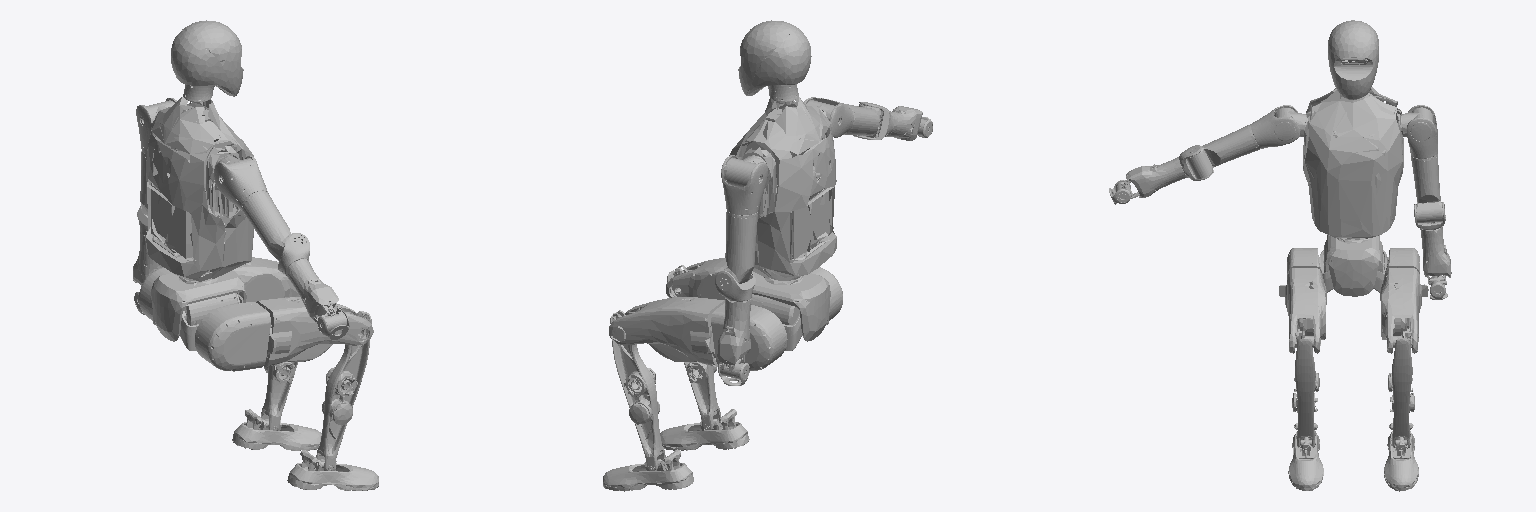
--- What the picture shows (computed from the rendered views, not written in the file) ---
Views: 3 orthographic renders of the robot side by side, from view 1: azimuth 30°, elevation 25°; view 2: azimuth 150°, elevation 25°; view 3: azimuth 270°, elevation 25°.
Model Robot with 49 links and 48 joints (19 revolute, 29 fixed), rooted at pelvis, posed all joints at 0 but 2 set to mid-range because 0 is outside their limits (shoulder_roll_r_joint = -1.05, thumb_joint_0 = 0.75).
Visible links, largest first — view 1: waist_yaw_link, hip_pitch_r_link, head_roll_link, hip_yaw_r_link, pelvis, knee_pitch_r_link, ankle_roll_r_link, ankle_roll_l_link, shoulder_yaw_r_link, hip_yaw_l_link, elbow_yaw_r_link, shoulder_roll_r_link (+5 smaller); view 2: waist_yaw_link, hip_yaw_l_link, head_roll_link, pelvis, knee_pitch_l_link, hip_pitch_l_link, ankle_roll_l_link, ankle_roll_r_link, shoulder_yaw_l_link, elbow_yaw_l_link, knee_pitch_r_link, hip_yaw_r_link (+7 smaller); view 3: waist_yaw_link, head_roll_link, pelvis, hip_yaw_l_link, hip_yaw_r_link, knee_pitch_r_link, knee_pitch_l_link, shoulder_yaw_r_link, shoulder_yaw_l_link, ankle_roll_l_link, ankle_roll_r_link, elbow_yaw_r_link (+5 smaller).
Boxes of the visible links, x1=… form: waist_yaw_link: x1=146, y1=97, x2=253, y2=281; hip_pitch_r_link: x1=195, y1=302, x2=270, y2=371; head_roll_link: x1=171, y1=20, x2=243, y2=96; hip_yaw_r_link: x1=256, y1=297, x2=373, y2=366; pelvis: x1=151, y1=270, x2=246, y2=341; knee_pitch_r_link: x1=316, y1=311, x2=371, y2=470; ankle_roll_r_link: x1=287, y1=450, x2=378, y2=490; ankle_roll_l_link: x1=232, y1=409, x2=321, y2=450; shoulder_yaw_r_link: x1=241, y1=191, x2=290, y2=261; hip_yaw_l_link: x1=233, y1=257, x2=299, y2=301; elbow_yaw_r_link: x1=286, y1=259, x2=338, y2=321; shoulder_roll_r_link: x1=214, y1=155, x2=268, y2=210; waist_yaw_link: x1=729, y1=97, x2=836, y2=280; hip_yaw_l_link: x1=609, y1=297, x2=724, y2=366; head_roll_link: x1=738, y1=20, x2=811, y2=95; pelvis: x1=751, y1=271, x2=830, y2=341; knee_pitch_l_link: x1=610, y1=310, x2=665, y2=470; hip_pitch_l_link: x1=711, y1=303, x2=787, y2=370; ankle_roll_l_link: x1=603, y1=449, x2=693, y2=491; ankle_roll_r_link: x1=660, y1=409, x2=749, y2=450; shoulder_yaw_l_link: x1=722, y1=211, x2=757, y2=283; elbow_yaw_l_link: x1=717, y1=298, x2=750, y2=370; knee_pitch_r_link: x1=667, y1=265, x2=720, y2=429; hip_yaw_r_link: x1=666, y1=258, x2=727, y2=299; waist_yaw_link: x1=1303, y1=87, x2=1403, y2=239; head_roll_link: x1=1328, y1=20, x2=1378, y2=99; pelvis: x1=1324, y1=235, x2=1382, y2=296; hip_yaw_l_link: x1=1380, y1=268, x2=1428, y2=353; hip_yaw_r_link: x1=1279, y1=268, x2=1326, y2=353; knee_pitch_r_link: x1=1292, y1=331, x2=1319, y2=447; knee_pitch_l_link: x1=1388, y1=331, x2=1414, y2=447; shoulder_yaw_r_link: x1=1187, y1=124, x2=1260, y2=178; shoulder_yaw_l_link: x1=1411, y1=154, x2=1442, y2=222; ankle_roll_l_link: x1=1384, y1=423, x2=1418, y2=491; ankle_roll_r_link: x1=1288, y1=423, x2=1323, y2=490; elbow_yaw_r_link: x1=1121, y1=157, x2=1187, y2=198.
Size in the robot's own frame: 0.5977 by 1.08 by 1.41 metres.
Meshes: 44 distinct files referenced, 31 mesh visuals loaded (31 binary STL); not drawn: 13 (reference not matched to a file when rendering).

robot.urdf — Robot:
<?xml version="1.0" encoding="utf-8"?>
<!-- This URDF was automatically created by SolidWorks to URDF Exporter! Originally created by Stephen Brawner ([email redacted]) 
     Commit Version: 1.6.0-4-g7f85cfe  Build Version: 1.6.7995.38578
     For more information, please see http://wiki.ros.org/sw_urdf_exporter -->
<robot
  name="Robot">
  <link
    name="pelvis">
    <inertial>
      <origin
        xyz="-0.000641 0.000723  -0.074769"
        rpy="0 0 0" />
      <mass
        value="6.094610" />
      <inertia
        ixx="0.020607"
        ixy="0.004335"
        ixz="0.000046"
        iyy="0.027481"
        iyz="-0.000037"
        izz="0.028105" />
    </inertial>
    <visual>
      <origin
        xyz="0 0 0"
        rpy="0 0 0" />
      <geometry>
        <mesh
          filename="meshes/pelvis.STL" />
      </geometry>
      <material
        name="">
        <color
          rgba="0.752941176470588 0.752941176470588 0.752941176470588 1" />
      </material>
    </visual>
    <collision>
      <origin
        xyz="0 0 0"
        rpy="0 0 0" />
      <geometry>
        <mesh
          filename="meshes/pelvis.STL" />
      </geometry>
    </collision>
  </link>

  <link
    name="hip_roll_l_link">
    <inertial>
      <origin
        xyz="-0.001848 0.055849 -0.036017"
        rpy="0 0 0" />
      <mass
        value="0.672983" />
      <inertia
        ixx="0.001020"
        ixy="0.000070"
        ixz="-0.000038"
        iyy="0.003221"
        iyz="-0.000281"
        izz="0.003272" />
    </inertial>
    <visual>
      <origin
        xyz="0 0 0"
        rpy="0 0 0" />
      <geometry>
        <mesh
          filename="meshes/hip_roll_l_link.STL" />
      </geometry>
      <material
        name="">
        <color
          rgba="0.752941176470588 0.752941176470588 0.752941176470588 1" />
      </material>
    </visual>
    <collision>
      <origin
        xyz="0 0 0"
        rpy="0 0 0" />
      <geometry>
        <mesh
          filename="meshes/hip_roll_l_link.STL" />
      </geometry>
    </collision>
  </link>

  <joint
    name="hip_roll_l_joint"
    type="fixed">
    <origin
      xyz="0 0.028 -0.0857"
      rpy="0 0 0" />
    <parent
      link="pelvis" />
    <child
      link="hip_roll_l_link" />
    <axis
      xyz="1 0 0" />
    <limit effort="160" lower="-0.79" upper="0.79" velocity="15.6"/>
  </joint>

  <link
    name="hip_pitch_l_link">
    <inertial>
      <origin
        xyz="0.001125 0.001644 -0.011770"
        rpy="0 0 0" />
      <mass
        value="4.227933" />
      <inertia
        ixx="0.016785"
        ixy="0.000022"
        ixz="-0.000255"
        iyy="0.025135"
        iyz="0.000012"
        izz="0.015273" />
    </inertial>
    <visual>
      <origin
        xyz="0 0 0"
        rpy="0 0 0" />
      <geometry>
        <mesh
          filename="meshes/hip_pitch_l_link.STL" />
      </geometry>
      <material
        name="">
        <color
          rgba="0.752941176470588 0.752941176470588 0.752941176470588 1" />
      </material>
    </visual>
    <collision>
      <origin
        xyz="0 0 0"
        rpy="0 0 0" />
      <geometry>
        <mesh
          filename="meshes/hip_pitch_l_link.STL" />
      </geometry>
    </collision>
  </link>

  <joint
    name="hip_pitch_l_joint"
    type="fixed">
    <origin
      xyz="0 0.122 -0.046"
      rpy="0 -1.43 0" />
    <parent
      link="hip_roll_l_link" />
    <child
      link="hip_pitch_l_link" />
    <axis
      xyz="0 1 0" />
    <limit effort="300" lower="-2.79" upper="2.09" velocity="12.5"/>
  </joint>

  <link
    name="hip_yaw_l_link">
    <inertial>
      <origin
        xyz="0.004124 -0.006494 -0.119737"
        rpy="0 0 0" />
      <mass
        value="6.572700" />
      <inertia
        ixx="0.056043"
        ixy="0.000146"
        ixz="-0.000059"
        iyy="0.063286"
        iyz="0.001030"
        izz="0.021108" />
    </inertial>
    <visual>
      <origin
        xyz="0 0 0"
        rpy="0 0 0" />
      <geometry>
        <mesh
          filename="meshes/hip_yaw_l_link.STL" />
      </geometry>
      <material
        name="">
        <color
          rgba="0.752941176470588 0.752941176470588 0.752941176470588 1" />
      </material>
    </visual>
    <collision>
      <origin
        xyz="0 0 0"
        rpy="0 0 0" />
      <geometry>
        <mesh
          filename="meshes/hip_yaw_l_link.STL" />
      </geometry>
    </collision>
  </link>

  <joint
    name="hip_yaw_l_joint"
    type="fixed">
    <origin
      xyz="0 0 -0.0987"
      rpy="0 0 0" />
    <parent
      link="hip_pitch_l_link" />
    <child
      link="hip_yaw_l_link" />
    <axis
      xyz="0 0 1" />
    <limit effort="160" lower="-1.04" upper="1.04" velocity="15.6"/>  
  </joint>

  <link
    name="knee_pitch_l_link">
    <inertial>
      <origin
        xyz="0.007489 0.001584  -0.167773"
        rpy="0 0 0" />
      <mass
        value="3.017992" />
      <inertia
        ixx="0.035604"
        ixy="0.000037"
        ixz="0.001830"
        iyy="0.036226"
        iyz="0.000475"
        izz="0.001951" />
    </inertial>
    <visual>
      <origin
        xyz="0 0 0"
        rpy="0 0 0" />
      <geometry>
        <mesh
          filename="meshes/knee_pitch_l_link.STL" />
      </geometry>
      <material
        name="">
        <color
          rgba="0.752941176470588 0.752941176470588 0.752941176470588 1" />
      </material>
    </visual>
    <collision>
      <origin
        xyz="0 0 0"
        rpy="0 0 0" />
      <geometry>
        <mesh
          filename="meshes/knee_pitch_l_link.STL" />
      </geometry>
    </collision>
  </link>

  <joint
    name="knee_pitch_l_joint"
    type="fixed">
    <origin
      xyz="0 -4.2833E-05 -0.3013"
      rpy="0 1.65 0" />
    <parent
      link="hip_yaw_l_link" />
    <child
      link="knee_pitch_l_link" />
    <axis
      xyz="0 1 0" />
    <limit effort="300" lower="0.0" upper="2.39" velocity="12.5"/>
  </joint>

  <link
    name="ankle_pitch_l_link">
    <inertial>
      <origin
        xyz="1.23076545482746E-09 5.88533416445713E-10 -3.14193115968919E-14"
        rpy="0 0 0" />
      <mass
        value="0.111609" />
      <inertia
        ixx="0.000018"
        ixy="9.12795578499149E-18"
        ixz="-8.5550749402341E-12"
        iyy="0.000018"
        iyz="2.59346326737996E-11"
        izz="0.000032" />
    </inertial>
    <visual>
      <origin
        xyz="0 0 0"
        rpy="0 0 0" />
      <geometry>
        <mesh
          filename="meshes/ankle_pitch_l_link.STL" />
      </geometry>
      <material
        name="">
        <color
          rgba="0.752941176470588 0.752941176470588 0.752941176470588 1" />
      </material>
    </visual>
    <collision>
      <origin
        xyz="0 0 0"
        rpy="0 0 0" />
      <geometry>
        <mesh
          filename="meshes/ankle_pitch_l_link.STL" />
      </geometry>
    </collision>
  </link>

  <joint
    name="ankle_pitch_l_joint"
    type="fixed">
    <origin
      xyz="0 0 -0.4"
      rpy="0 0 0" />
    <parent
      link="knee_pitch_l_link" />
    <child
      link="ankle_pitch_l_link" />
    <axis
      xyz="0 1 0" />
    <limit effort="60" lower="-1.22" upper="0.5236" velocity="12.8"/>
  </joint>

  <link
    name="ankle_roll_l_link">
    <inertial>
      <origin
        xyz="0.021235 -4.62707223369829E-08 -0.032883"
        rpy="0 0 0" />
      <mass
        value="1.017381" />
      <inertia
        ixx="0.001028"
        ixy="4.59557401077979E-08"
        ixz="-0.000622"
        iyy="0.006055"
        iyz="4.78117170569023E-10"
        izz="0.006240" />
    </inertial>
    <visual>
      <origin
        xyz="0 0 0"
        rpy="0 0 0" />
      <geometry>
        <mesh
          filename="meshes/ankle_roll_l_link.STL" />
      </geometry>
      <material
        name="">
        <color
          rgba="0.752941176470588 0.752941176470588 0.752941176470588 1" />
      </material>
    </visual>
    <collision>
      <origin
        xyz="0 0 0"
        rpy="0 0 0" />
      <geometry>
        <mesh
          filename="meshes/ankle_roll_l_link.STL" />
      </geometry>
    </collision>
  </link>

  <joint
    name="ankle_roll_l_joint"
    type="fixed">
    <origin
      xyz="0 0 0"
      rpy="0 0 0" />
    <parent
      link="ankle_pitch_l_link" />
    <child
      link="ankle_roll_l_link" />
    <axis
      xyz="1 0 0" />
    <limit effort="30" lower="-0.4363" upper="0.4363" velocity="7.8"/>
  </joint>

  <link
    name="hip_roll_r_link">
    <inertial>
      <origin
        xyz="-0.001848 -0.055849 -0.036017"
        rpy="0 0 0" />
      <mass
        value="0.672983" />
      <inertia
        ixx="0.001020"
        ixy="-0.000070"
        ixz="-0.000038"
        iyy="0.003221"
        iyz="0.000281"
        izz="0.003272" />
    </inertial>
    <visual>
      <origin
        xyz="0 0 0"
        rpy="0 0 0" />
      <geometry>
        <mesh
          filename="meshes/hip_roll_r_link.STL" />
      </geometry>
      <material
        name="">
        <color
          rgba="0.752941176470588 0.752941176470588 0.752941176470588 1" />
      </material>
    </visual>
    <collision>
      <origin
        xyz="0 0 0"
        rpy="0 0 0" />
      <geometry>
        <mesh
          filename="meshes/hip_roll_r_link.STL" />
      </geometry>
    </collision>
  </link>
  <joint
    name="hip_roll_r_joint"
    type="fixed">
    <origin
      xyz="0 -0.028 -0.0857"
      rpy="0 0 0" />
    <parent
      link="pelvis" />
    <child
      link="hip_roll_r_link" />
    <axis
      xyz="1 0 0" />
    <limit effort="160" lower="-0.79" upper="0.79" velocity="15.6"/>
  </joint>
  <link
    name="hip_pitch_r_link">
    <inertial>
      <origin
        xyz="0.001125 -0.001644 -0.011770"
        rpy="0 0 0" />
      <mass
        value="4.227933" />
      <inertia
        ixx="0.016785"
        ixy="-0.000022"
        ixz="-0.000255"
        iyy="0.025135"
        iyz="-0.000012"
        izz="0.015273" />
    </inertial>
    <visual>
      <origin
        xyz="0 0 0"
        rpy="0 0 0" />
      <geometry>
        <mesh
          filename="meshes/hip_pitch_r_link.STL" />
      </geometry>
      <material
        name="">
        <color
          rgba="0.752941176470588 0.752941176470588 0.752941176470588 1" />
      </material>
    </visual>
    <collision>
      <origin
        xyz="0 0 0"
        rpy="0 0 0" />
      <geometry>
        <mesh
          filename="meshes/hip_pitch_r_link.STL" />
      </geometry>
    </collision>
  </link>
  <joint
    name="hip_pitch_r_joint"
    type="fixed">
    <origin
      xyz="0 -0.122 -0.046"
      rpy="0 -1.43 0" />
    <parent
      link="hip_roll_r_link" />
    <child
      link="hip_pitch_r_link" />
    <axis
      xyz="0 1 0" />
    <limit effort="300" lower="-2.79" upper="2.09" velocity="12.5"/>
  </joint>
  <link
    name="hip_yaw_r_link">
    <inertial>
      <origin
        xyz="0.003740 0.005658 -0.117755"
        rpy="0 0 0" />
      <mass
        value="7.182896" />
      <inertia
        ixx="0.057773"
        ixy="-0.000105"
        ixz="-0.000124"
        iyy="0.064848"
        iyz="-0.001431"
        izz="0.022867" />
    </inertial>
    <visual>
      <origin
        xyz="0 0 0"
        rpy="0 0 0" />
      <geometry>
        <mesh
          filename="meshes/hip_yaw_r_link.STL" />
      </geometry>
      <material
        name="">
        <color
          rgba="0.752941176470588 0.752941176470588 0.752941176470588 1" />
      </material>
    </visual>
    <collision>
      <origin
        xyz="0 0 0"
        rpy="0 0 0" />
      <geometry>
        <mesh
          filename="meshes/hip_yaw_r_link.STL" />
      </geometry>
    </collision>
  </link>
  <joint
    name="hip_yaw_r_joint"
    type="fixed">
    <origin
      xyz="0 0 -0.0987"
      rpy="0 0 0" />
    <parent
      link="hip_pitch_r_link" />
    <child
      link="hip_yaw_r_link" />
    <axis
      xyz="0 0 1" />
    <limit effort="160" lower="-1.04" upper="1.04" velocity="15.6"/>  
  </joint>

  <link
    name="knee_pitch_r_link">
    <inertial>
      <origin
        xyz="0.007489 -0.001584  -0.167773"
        rpy="0 0 0" />
      <mass
        value="3.017992" />
      <inertia
        ixx="0.035604"
        ixy="-0.000037"
        ixz="0.001830"
        iyy="0.036226"
        iyz="-0.000475"
        izz="0.001951" />
    </inertial>
    <visual>
      <origin
        xyz="0 0 0"
        rpy="0 0 0" />
      <geometry>
        <mesh
          filename="meshes/knee_pitch_r_link.STL" />
      </geometry>
      <material
        name="">
        <color
          rgba="0.752941176470588 0.752941176470588 0.752941176470588 1" />
      </material>
    </visual>
    <collision>
      <origin
        xyz="0 0 0"
        rpy="0 0 0" />
      <geometry>
        <mesh
          filename="meshes/knee_pitch_r_link.STL" />
      </geometry>
    </collision>
  </link>

  <joint
    name="knee_pitch_r_joint"
    type="fixed">
    <origin
      xyz="0 0.00015001 -0.3013"
      rpy="0 1.65 0" />
    <parent
      link="hip_yaw_r_link" />
    <child
      link="knee_pitch_r_link" />
    <axis
      xyz="0 1 0" />
    <limit effort="300" lower="0.0" upper="2.39" velocity="12.5"/>
  </joint>

  <link
    name="ankle_pitch_r_link">
    <inertial>
      <origin
        xyz="1.23076545482746E-09 -5.88533416445713E-10 -3.14193115968919E-14"
        rpy="0 0 0" />
      <mass
        value="0.111609" />
      <inertia
        ixx="0.000018"
        ixy="-9.12795578499149E-18"
        ixz="-8.5550749402341E-12"
        iyy="0.000018"
        iyz="-2.59346326737996E-11"
        izz="0.000032" />
    </inertial>
    <visual>
      <origin
        xyz="0 0 0"
        rpy="0 0 0" />
      <geometry>
        <mesh
          filename="meshes/ankle_pitch_r_link.STL" />
      </geometry>
      <material
        name="">
        <color
          rgba="0.752941176470588 0.752941176470588 0.752941176470588 1" />
      </material>
    </visual>
    <collision>
      <origin
        xyz="0 0 0"
        rpy="0 0 0" />
      <geometry>
        <mesh
          filename="meshes/ankle_pitch_r_link.STL" />
      </geometry>
    </collision>
  </link>

  <joint
    name="ankle_pitch_r_joint"
    type="fixed">
    <origin
      xyz="0 0.00074981 -0.4"
      rpy="0 0 0" />
    <parent
      link="knee_pitch_r_link" />
    <child
      link="ankle_pitch_r_link" />
    <axis
      xyz="0 1 0" />
    <limit effort="60" lower="-1.22" upper="0.5236" velocity="12.8"/>
  </joint>

  <link
    name="ankle_roll_r_link">
    <inertial>
      <origin
        xyz="0.021235 4.62707223369829E-08 -0.032883"
        rpy="0 0 0" />
      <mass
        value="1.017381" />
      <inertia
        ixx="0.001028"
        ixy="-4.59557401077979E-08"
        ixz="-0.000622"
        iyy="0.006055"
        iyz="-4.78117170569023E-10"
        izz="0.006240" />
    </inertial>
    <visual>
      <origin
        xyz="0 0 0"
        rpy="0 0 0" />
      <geometry>
        <mesh
          filename="meshes/ankle_roll_r_link.STL" />
      </geometry>
      <material
        name="">
        <color
          rgba="0.752941176470588 0.752941176470588 0.752941176470588 1" />
      </material>
    </visual>
    <collision>
      <origin
        xyz="0 0 0"
        rpy="0 0 0" />
      <geometry>
        <mesh
          filename="meshes/ankle_roll_r_link.STL" />
      </geometry>
    </collision>
  </link>

  <joint
    name="ankle_roll_r_joint"
    type="fixed">
    <origin
      xyz="0 0 0"
      rpy="0 0 0" />
    <parent
      link="ankle_pitch_r_link" />
    <child
      link="ankle_roll_r_link" />
    <axis
      xyz="1 0 0" />
    <limit effort="30" lower="-0.4363" upper="0.4363" velocity="7.8"/>
  </joint>

  <link
    name="waist_yaw_link">
    <inertial>
      <origin
        xyz="-0.000568 0.000560 0.231488"
        rpy="0 0 0" />
      <mass
        value="22.445155" />
      <inertia
        ixx="0.429034"
        ixy="-0.000293"
        ixz="0.003462"
        iyy="0.379055"
        iyz="-0.000237"
        izz="0.177142" />
    </inertial>
    <visual>
      <origin
        xyz="0 0 0"
        rpy="0 0 0" />
      <geometry>
        <mesh
          filename="meshes/waist_yaw_link.STL" />
      </geometry>
      <material
        name="">
        <color
          rgba="0.752941176470588 0.752941176470588 0.752941176470588 1" />
      </material>
    </visual>
    <collision>
      <origin
        xyz="0 0 0"
        rpy="0 0 0" />
      <geometry>
        <mesh
          filename="meshes/waist_yaw_link.STL" />
      </geometry>
    </collision>
  </link>

  <joint
    name="waist_yaw_joint"
    type="fixed">
    <origin
      xyz="0 0 0"
      rpy="0 0 0" />
    <parent
      link="pelvis" />
    <child
      link="waist_yaw_link" />
    <axis
      xyz="0 0 1" />
    <limit effort="120" lower="-2.96" upper="3.14" velocity="7.0"/>
  </joint>

  <link
    name="head_yaw_link">
    <inertial>
      <origin
        xyz="-0.000198116284628826 0.000454283135208022 0.00724627742538442"
        rpy="0 0 0" />
      <mass
        value="0.0883927289639252" />
      <inertia
        ixx="0.000095"
        ixy="0.000001"
        ixz="0.000003"
        iyy="0.000076"
        iyz="0.000003"
        izz="0.000106" />
    </inertial>
    <visual>
      <origin
        xyz="0 0 0"
        rpy="0 0 0" />
      <geometry>
        <mesh
          filename="meshes/head_yaw_link.STL" />
      </geometry>
      <material
        name="">
        <color
          rgba="0.752941176470588 0.752941176470588 0.752941176470588 1" />
      </material>
    </visual>
    <collision>
      <origin
        xyz="0 0 0"
        rpy="0 0 0" />
      <geometry>
        <mesh
          filename="meshes/head_yaw_link.STL" />
      </geometry>
    </collision>
  </link>

  <joint
    name="head_yaw_joint"
    type="fixed">
    <origin
      xyz="-0.002 0 0.56508"
      rpy="0 0 0" />
    <parent
      link="waist_yaw_link" />
    <child
      link="head_yaw_link" />
    <axis
      xyz="0 0 1" />
    <limit effort="9" lower="-1.57" upper="1.57" velocity="7.2"/>
  </joint>

  <link
    name="head_pitch_link">
    <inertial>
      <origin
        xyz="-0.000274 0.004118 0.000023"
        rpy="0 0 0" />
      <mass
        value="0.230460" />
      <inertia
        ixx="0.000092"
        ixy="-0.000001"
        ixz="0.000001"
        iyy="0.000054"
        iyz="-7.30725289619866E-08"
        izz="0.000095" />
    </inertial>
    <visual>
      <origin
        xyz="0 0 0"
        rpy="0 0 0" />
      <geometry>
        <mesh
          filename="meshes/head_pitch_link.STL" />
      </geometry>
      <material
        name="">
        <color
          rgba="0.752941176470588 0.752941176470588 0.752941176470588 1" />
      </material>
    </visual>
    <collision>
      <origin
        xyz="0 0 0"
        rpy="0 0 0" />
      <geometry>
        <mesh
          filename="meshes/head_pitch_link.STL" />
      </geometry>
    </collision>
  </link>

  <joint
    name="head_pitch_joint"
    type="fixed">
    <origin
      xyz="0.01455 0 0.0304"
      rpy="0 0.2618 0" />
    <parent
      link="head_yaw_link" />
    <child
      link="head_pitch_link" />
    <axis
      xyz="0 1 0" />
    <limit effort="9" lower="-0.43" upper="0.43" velocity="7.2"/>
  </joint>

  <link
    name="head_roll_link">
    <inertial>
      <origin
        xyz="0.022467 0.001208  0.053952"
        rpy="0 0 0" />
      <mass
        value="0.844627" />
      <inertia
        ixx="0.002350"
        ixy="-0.000038"
        ixz="-0.000436"
        iyy="0.003365"
        iyz="-0.000006"
        izz="0.002875" />
    </inertial>
    <visual>
      <origin
        xyz="0 0 0"
        rpy="0 0 0" />
      <geometry>
        <mesh
          filename="meshes/head_roll_link.STL" />
      </geometry>
      <material
        name="">
        <color
          rgba="0.752941176470588 0.752941176470588 0.752941176470588 1" />
      </material>
    </visual>
    <collision>
      <origin
        xyz="0 0 0"
        rpy="0 0 0" />
      <geometry>
        <mesh
          filename="meshes/head_roll_link.STL" />
      </geometry>
    </collision>
  </link>

  <joint
    name="head_roll_joint"
    type="fixed">
    <origin
      xyz="0 0 0"
      rpy="0 0 0" />
    <parent
      link="head_pitch_link" />
    <child
      link="head_roll_link" />
    <axis
      xyz="1 0 0" />
    <limit effort="9" lower="-0.43" upper="0.43" velocity="7.2"/>
  </joint>

  <link
    name="shoulder_pitch_l_link">
    <inertial>
      <origin
        xyz="0.007540 0.064361 -0.000037"
        rpy="0 0 0" />
      <mass
        value="1.030628" />
      <inertia
        ixx="0.000536"
        ixy="0.000025"
        ixz="1.26194941072712E-08"
        iyy="0.000480"
        iyz="2.95758293199811E-08"
        izz="0.000636" />
    </inertial>
    <visual>
      <origin
        xyz="0 0 0"
        rpy="0 0 0" />
      <geometry>
        <mesh
          filename="meshes/shoulder_pitch_l_link.STL" />
      </geometry>
      <material
        name="">
        <color
          rgba="0.752941176470588 0.752941176470588 0.752941176470588 1" />
      </material>
    </visual>
    <collision>
      <origin
        xyz="0 0 0"
        rpy="0 0 0" />
      <geometry>
        <mesh
          filename="meshes/shoulder_pitch_l_link.STL" />
      </geometry>
    </collision>
  </link>

  <joint
    name="shoulder_pitch_l_joint"
    type="fixed">
    <origin
      xyz="0 0.14539 0.37721"
      rpy="0.087266 0 0" />
    <parent
      link="waist_yaw_link" />
    <child
      link="shoulder_pitch_l_link" />
    <axis
      xyz="0 1 0" />
    <limit effort="91" lower="-2.96" upper="2.96" velocity="8.8"/>
  </joint>

  <link
    name="shoulder_roll_l_link">
    <inertial>
      <origin
        xyz="0.00106653447924365 0.00220628914286614 -0.0441160803631309"
        rpy="0 0 0" />
      <mass
        value="0.412600522097283" />
      <inertia
        ixx="0.000939"
        ixy="0.000001"
        ixz="0.000001"
        iyy="0.001264"
        iyz="0.000005"
        izz="0.000896" />
    </inertial>
    <visual>
      <origin
        xyz="0 0 0"
        rpy="0 0 0" />
      <geometry>
        <mesh
          filename="meshes/shoulder_roll_l_link.STL" />
      </geometry>
      <material
        name="">
        <color
          rgba="0.752941176470588 0.752941176470588 0.752941176470588 1" />
      </material>
    </visual>
    <collision>
      <origin
        xyz="0 0 0"
        rpy="0 0 0" />
      <geometry>
        <mesh
          filename="meshes/shoulder_roll_l_link.STL" />
      </geometry>
    </collision>
  </link>

  <joint
    name="shoulder_roll_l_joint"
    type="fixed">
    <origin
      xyz="0 0.068 0"
      rpy="0 0 0" />
    <parent
      link="shoulder_pitch_l_link" />
    <child
      link="shoulder_roll_l_link" />
    <axis
      xyz="1 0 0" />
    <limit effort="60" lower="-0.2618" upper="3.4" velocity="12"/>
  </joint>

  <link
    name="shoulder_yaw_l_link">
    <inertial>
      <origin
        xyz="0.008387 0.003730 -0.112290"
        rpy="0 0 0" />
      <mass
        value="1.307604" />
      <inertia
        ixx="0.009261"
        ixy="0.000052"
        ixz="-0.000968"
        iyy="0.009283"
        iyz="-0.000413"
        izz="0.000836" />
    </inertial>
    <visual>
      <origin
        xyz="0 0 0"
        rpy="0 0 0" />
      <geometry>
        <mesh
          filename="meshes/shoulder_yaw_l_link.STL" />
      </geometry>
      <material
        name="">
        <color
          rgba="0.752941176470588 0.752941176470588 0.752941176470588 1" />
      </material>
    </visual>
    <collision>
      <origin
        xyz="0 0 0"
        rpy="0 0 0" />
      <geometry>
        <mesh
          filename="meshes/shoulder_yaw_l_link.STL" />
      </geometry>
    </collision>
  </link>

  <joint
    name="shoulder_yaw_l_joint"
    type="fixed">
    <origin
      xyz="0 0 -0.1025"
      rpy="0 0 0" />
    <parent
      link="shoulder_roll_l_link" />
    <child
      link="shoulder_yaw_l_link" />
    <axis
      xyz="0 0 1" />
    <limit effort="30" lower="-2.96" upper="2.96" velocity="7.3"/>
  </joint>

  <link
    name="elbow_pitch_l_link">
    <inertial>
      <origin
        xyz="-0.014369 -0.000090 -0.024267"
        rpy="0 0 0" />
      <mass
        value="0.222661" />
      <inertia
        ixx="0.000364"
        ixy="-0.000001"
        ixz="0.000010"
        iyy="0.000208"
        iyz="-3.96645947452354E-05"
        izz="0.000387" />
    </inertial>
    <visual>
      <origin
        xyz="0 0 0"
        rpy="0 0 0" />
      <geometry>
        <mesh
          filename="meshes/elbow_pitch_l_link.STL" />
      </geometry>
      <material
        name="">
        <color
          rgba="0.752941176470588 0.752941176470588 0.752941176470588 1" />
      </material>
    </visual>
    <collision>
      <origin
        xyz="0 0 0"
        rpy="0 0 0" />
      <geometry>
        <mesh
          filename="meshes/elbow_pitch_l_link.STL" />
      </geometry>
    </collision>
  </link>

  <joint
    name="elbow_pitch_l_joint"
    type="fixed">
    <origin
      xyz="0.02 0 -0.1975"
      rpy="0 0 0" />
    <parent
      link="shoulder_yaw_l_link" />
    <child
      link="elbow_pitch_l_link" />
    <axis
      xyz="0 1 0" />
    <limit effort="30" lower="-2.61" upper="0.261" velocity="7.3"/>
  </joint>


  <link
    name="elbow_yaw_l_link">
    <inertial>
      <origin
        xyz="0.000080 0.001150 -0.069083"
        rpy="0 0 0" />
      <mass
        value="0.990079" />
      <inertia
        ixx="0.002961"
        ixy="0.000001"
        ixz="-0.000003"
        iyy="0.002878"
        iyz="-0.000062"
        izz="0.000422" />
    </inertial>
    <visual>
      <origin
        xyz="0 0 0"
        rpy="0 0 0" />
      <geometry>
        <mesh
          filename="meshes/elbow_yaw_l_link.STL" />
      </geometry>
      <material
        name="">
        <color
          rgba="0.752941176470588 0.752941176470588 0.752941176470588 1" />
      </material>
    </visual>
    <collision>
      <origin
        xyz="0 0 0"
        rpy="0 0 0" />
      <geometry>
        <mesh
          filename="meshes/elbow_yaw_l_link.STL" />
      </geometry>
    </collision>
  </link>

  <joint
    name="elbow_yaw_l_joint"
    type="fixed">
    <origin
      xyz="-0.02 0 -0.0543"
      rpy="0 0 0" />
    <parent
      link="elbow_pitch_l_link" />
    <child
      link="elbow_yaw_l_link" />
    <axis
      xyz="0 0 1" />
    <limit effort="15" lower="-2.9671" upper="2.9671" velocity="14.6"/>
  </joint>

  <link
    name="wrist_pitch_l_link">
    <inertial>
      <origin
        xyz="0.005341 0.000652 -0.018511"
        rpy="0 0 0" />
      <mass
        value="0.266415" />
      <inertia
        ixx="0.000074"
        ixy="0.000003"
        ixz="0.000002"
        iyy="0.000114"
        iyz="0.000003"
        izz="0.000113" />
    </inertial>
    <visual>
      <origin
        xyz="0 0 0"
        rpy="0 0 0" />
      <geometry>
        <mesh
          filename="meshes/wrist_pitch_l_link.STL" />
      </geometry>
      <material
        name="">
        <color
          rgba="0.752941176470588 0.752941176470588 0.752941176470588 1" />
      </material>
    </visual>
    <collision>
      <origin
        xyz="0 0 0"
        rpy="0 0 0" />
      <geometry>
        <mesh
          filename="meshes/wrist_pitch_l_link.STL" />
      </geometry>
    </collision>
  </link>

  <joint
    name="wrist_pitch_l_joint"
    type="fixed">
    <origin
      xyz="0 0.002 -0.1887"
      rpy="0 0 0" />
    <parent
      link="elbow_yaw_l_link" />
    <child
      link="wrist_pitch_l_link" />
    <axis
      xyz="0 1 0" />
    <limit effort="9" lower="-1.3" upper="1.65" velocity="7.2"/>
  </joint>

  <link
    name="wrist_roll_l_link">
    <inertial>
      <origin
        xyz="0.001596 0.000155  -0.018822"
        rpy="0 0 0" />
      <mass
        value="0.065684" />
      <inertia
        ixx="0.000033"
        ixy="-1.01838157154324E-07"
        ixz="0.000001"
        iyy="0.000073"
        iyz="-2.28155013652257E-07"
        izz="0.000064" />
    </inertial>
    <visual>
      <origin
        xyz="0 0 0"
        rpy="0 0 0" />
      <geometry>
        <mesh
          filename="meshes/wrist_roll_l_link.STL" />
      </geometry>
      <material
        name="">
        <color
          rgba="0.752941176470588 0.752941176470588 0.752941176470588 1" />
      </material>
    </visual>
    <collision>
      <origin
        xyz="0 0 0"
        rpy="0 0 0" />
      <geometry>
        <mesh
          filename="meshes/wrist_roll_l_link.STL" />
      </geometry>
    </collision>
  </link>

  <joint
    name="wrist_roll_l_joint"
    type="fixed">
    <origin
      xyz="5.0485E-05 0 -0.02"
      rpy="0 0 0" />
    <parent
      link="wrist_pitch_l_link" />
    <child
      link="wrist_roll_l_link" />
    <axis
      xyz="1 0 0" />
    <limit effort="9" lower="-1.04" upper="0.785" velocity="7.2"/>
  </joint>

  <link
    name="shoulder_pitch_r_link">
    <inertial>
      <origin
        xyz="0.007540 -0.064361 -0.000037"
        rpy="0 0 0" />
      <mass
        value="1.030628" />
      <inertia
        ixx="0.000536"
        ixy="-0.000025"
        ixz="1.26194941072712E-08"
        iyy="0.000480"
        iyz="-2.95758293199811E-08"
        izz="0.000636" />
    </inertial>
    <visual>
      <origin
        xyz="0 0 0"
        rpy="0 0 0" />
      <geometry>
        <mesh
          filename="meshes/shoulder_pitch_r_link.STL" />
      </geometry>
      <material
        name="">
        <color
          rgba="0.752941176470588 0.752941176470588 0.752941176470588 1" />
      </material>
    </visual>
    <collision>
      <origin
        xyz="0 0 0"
        rpy="0 0 0" />
      <geometry>
        <mesh
          filename="meshes/shoulder_pitch_r_link.STL" />
      </geometry>
    </collision>
  </link>
  
  <joint
    name="shoulder_pitch_r_joint"
    type="revolute">
    <origin
      xyz="0 -0.14539 0.37721"
      rpy="-0.087266 0 0" />
    <parent
      link="waist_yaw_link" />
    <child
      link="shoulder_pitch_r_link" />
    <axis
      xyz="0 1 0" />
    <limit effort="91" lower="-2.96" upper="0" velocity="8.8"/>
  </joint>

  <link
    name="shoulder_roll_r_link">
    <inertial>
      <origin
        xyz="0.00106653447924365 -0.00220628914286614 -0.0441160803631309"
        rpy="0 0 0" />
      <mass
        value="0.412600522097283" />
      <inertia
        ixx="0.000939"
        ixy="-0.000001"
        ixz="0.000001"
        iyy="0.001264"
        iyz="-0.000005"
        izz="0.000896" />
    </inertial>
    <visual>
      <origin
        xyz="0 0 0"
        rpy="0 0 0" />
      <geometry>
        <mesh
          filename="meshes/shoulder_roll_r_link.STL" />
      </geometry>
      <material
        name="">
        <color
          rgba="0.752941176470588 0.752941176470588 0.752941176470588 1" />
      </material>
    </visual>
    <collision>
      <origin
        xyz="0 0 0"
        rpy="0 0 0" />
      <geometry>
        <mesh
          filename="meshes/shoulder_roll_r_link.STL" />
      </geometry>
    </collision>
  </link>
  <joint
    name="shoulder_roll_r_joint"
    type="revolute">
    <origin
      xyz="0 -0.068 0"
      rpy="0 0 0" />
    <parent
      link="shoulder_pitch_r_link" />
    <child
      link="shoulder_roll_r_link" />
    <axis
      xyz="1 0 0" />
    <limit effort="60" lower="-2.0" upper="-0.1" velocity="12"/>
  </joint>
  <link
    name="shoulder_yaw_r_link">
    <inertial>
      <origin
        xyz="0.008387 -0.003730 -0.112290"
        rpy="0 0 0" />
      <mass
        value="1.307604" />
      <inertia
        ixx="0.009261"
        ixy="-0.000052"
        ixz="-0.000968"
        iyy="0.009283"
        iyz="0.000413"
        izz="0.000836" />
    </inertial>
    <visual>
      <origin
        xyz="0 0 0"
        rpy="0 0 0" />
      <geometry>
        <mesh
          filename="meshes/shoulder_yaw_r_link.STL" />
      </geometry>
      <material
        name="">
        <color
          rgba="0.752941176470588 0.752941176470588 0.752941176470588 1" />
      </material>
    </visual>
    <collision>
      <origin
        xyz="0 0 0"
        rpy="0 0 0" />
      <geometry>
        <mesh
          filename="meshes/shoulder_yaw_r_link.STL" />
      </geometry>
    </collision>
  </link>
  <joint
    name="shoulder_yaw_r_joint"
    type="revolute">
    <origin
      xyz="0 0 -0.1025"
      rpy="0 0 0" />
    <parent
      link="shoulder_roll_r_link" />
    <child
      link="shoulder_yaw_r_link" />
    <axis
      xyz="0 0 1" />
    <limit effort="30" lower="0" upper="2.5" velocity="7.3"/>
  </joint>
  <link
    name="elbow_pitch_r_link">
    <inertial>
      <origin
        xyz="-0.014369 0.000090 -0.024267"
        rpy="0 0 0" />
      <mass
        value="0.222661" />
      <inertia
        ixx="0.000364"
        ixy="0.000001"
        ixz="0.000010"
        iyy="0.000208"
        iyz="3.96645947452354E-05"
        izz="0.000387" />
    </inertial>
    <visual>
      <origin
        xyz="0 0 0"
        rpy="0 0 0" />
      <geometry>
        <mesh
          filename="meshes/elbow_pitch_r_link.STL" />
      </geometry>
      <material
        name="">
        <color
          rgba="0.752941176470588 0.752941176470588 0.752941176470588 1" />
      </material>
    </visual>
    <collision>
      <origin
        xyz="0 0 0"
        rpy="0 0 0" />
      <geometry>
        <mesh
          filename="meshes/elbow_pitch_r_link.STL" />
      </geometry>
    </collision>
  </link>
  <joint
    name="elbow_pitch_r_joint"
    type="revolute">
    <origin
      xyz="0.02 0 -0.1975"
      rpy="0 0 0" />
    <parent
      link="shoulder_yaw_r_link" />
    <child
      link="elbow_pitch_r_link" />
    <axis
      xyz="0 1 0" />
    <limit effort="30" lower="-2.0" upper="0.0" velocity="7.3"/>
  </joint>
  <link
    name="elbow_yaw_r_link">
    <inertial>
      <origin
        xyz="0.000080 0.001150 -0.069083"
        rpy="0 0 0" />
      <mass
        value="0.990079" />
      <inertia
        ixx="0.002961"
        ixy="0.000001"
        ixz="-0.000003"
        iyy="0.002878"
        iyz="-0.000062"
        izz="0.000422" />
    </inertial>
    <visual>
      <origin
        xyz="0 0 0"
        rpy="0 0 0" />
      <geometry>
        <mesh
          filename="meshes/elbow_yaw_r_link.STL" />
      </geometry>
      <material
        name="">
        <color
          rgba="0.752941176470588 0.752941176470588 0.752941176470588 1" />
      </material>
    </visual>
    <collision>
      <origin
        xyz="0 0 0"
        rpy="0 0 0" />
      <geometry>
        <mesh
          filename="meshes/elbow_yaw_r_link.STL" />
      </geometry>
    </collision>
  </link>
  <joint
    name="elbow_yaw_r_joint"
    type="revolute">
    <origin
      xyz="-0.02 0 -0.0543"
      rpy="0 0 0" />
    <parent
      link="elbow_pitch_r_link" />
    <child
      link="elbow_yaw_r_link" />
    <axis
      xyz="0 0 1" />
    <limit effort="15" lower="-2.9671" upper="2.9671" velocity="14.6"/>
  </joint>
  <link
    name="wrist_pitch_r_link">
    <inertial>
      <origin
        xyz="0.005341 -0.000652 -0.018511"
        rpy="0 0 0" />
      <mass
        value="0.266415" />
      <inertia
        ixx="0.000074"
        ixy="-0.000003"
        ixz="0.000002"
        iyy="0.000114"
        iyz="-0.000003"
        izz="0.000113" />
    </inertial>
    <visual>
      <origin
        xyz="0 0 0"
        rpy="0 0 0" />
      <geometry>
        <mesh
          filename="meshes/wrist_pitch_r_link.STL" />
      </geometry>
      <material
        name="">
        <color
          rgba="0.752941176470588 0.752941176470588 0.752941176470588 1" />
      </material>
    </visual>
    <collision>
      <origin
        xyz="0 0 0"
        rpy="0 0 0" />
      <geometry>
        <mesh
          filename="meshes/wrist_pitch_r_link.STL" />
      </geometry>
    </collision>
  </link>
  <joint
    name="wrist_pitch_r_joint"
    type="revolute">
    <origin
      xyz="0 -0.002 -0.1887"
      rpy="0 0 0" />
    <parent
      link="elbow_yaw_r_link" />
    <child
      link="wrist_pitch_r_link" />
    <axis
      xyz="0 1 0" />
    <limit effort="9" lower="-0.5" upper="0.6" velocity="7.2"/>
  </joint>
  <link
    name="wrist_roll_r_link">
    <inertial>
      <origin
        xyz="0.001596 -0.000155  -0.018822"
        rpy="0 0 0" />
      <mass
        value="0.065684" />
      <inertia
        ixx="0.000033"
        ixy="1.01838157154324E-07"
        ixz="0.000001"
        iyy="0.000073"
        iyz="2.28155013652257E-07"
        izz="0.000064" />
    </inertial>
    <visual>
      <origin
        xyz="0 0 0"
        rpy="0 0 0" />
      <geometry>
        <mesh
          filename="meshes/wrist_roll_r_link.STL" />
      </geometry>
      <material
        name="">
        <color
          rgba="0.752941176470588 0.752941176470588 0.752941176470588 1" />
      </material>
    </visual>
    <collision>
      <origin
        xyz="0 0 0"
        rpy="0 0 0" />
      <geometry>
        <mesh
          filename="meshes/wrist_roll_r_link.STL" />
      </geometry>
    </collision>
  </link>
  <joint
    name="wrist_roll_r_joint"
    type="revolute">
    <origin
      xyz="5.0485E-05 0 -0.02"
      rpy="0 0 0" />
    <parent
      link="wrist_pitch_r_link" />
    <child
      link="wrist_roll_r_link" />
    <axis
      xyz="1 0 0" />
    <limit effort="9" lower="-0.5" upper="0.5" velocity="7.2"/>
  </joint>

  <!-- hand part -->
  <!-- right hand -->
  <joint name="tg2_hand_fixed" type="fixed">
    <!-- <origin xyz="0.5 0.5 0.5" rpy="-1.5707963 0 0" /> -->
    <origin xyz="0.0 0.0 -0.0375" rpy="1.5707963 0 -1.5707963" />
    <parent link="wrist_roll_r_link"/>
    <child link="palm"/>
  </joint>
  
  <!-- <link name="inspirehand_mount">
    <inertial>
      <origin xyz="0 0 0" rpy="0 0 0" />
      <mass value="0.05" />
      <inertia ixx="1e-4" ixy="0" ixz="0" iyy="1e-4" iyz="0" izz="1e-4" />
    </inertial>
    <visual>
      <origin xyz="0 0 0" rpy="0 0 0" />
      <geometry>
        <box size="0.001 0.001 0.001" />
      </geometry>
    </visual>
    <collision>
      <origin xyz="0 0 0" rpy="0 0 0" />
      <geometry>
        <box size="0.001 0.001 0.001" />
      </geometry>
    </collision>
  </link>

  <joint name="inspirehand_mount_joint" type="fixed">
    <origin xyz="0 -0.07 0" rpy="0 -1.5708 0" />
    <parent link="inspirehand_mount" />
    <child link="palm" />
  </joint> -->

  <link
    name="palm">
    <inertial>
      <origin
        xyz="-0.0025264 -0.066047 0.0019598"
        rpy="0 0 0" />
      <mass
        value="0.3" />
      <inertia
        ixx="0.00012281"
        ixy="2.1711E-06"
        ixz="1.7709E-06"
        iyy="8.3831E-05"
        iyz="-1.655E-06"
        izz="7.6663E-05" />
    </inertial>
    <visual>
      <origin
        xyz="0 0 0"
        rpy="0 0 0" />
      <geometry>
        <mesh
          filename="./meshes/palm.STL" />
      </geometry>
      <material
        name="">
        <color
          rgba="1 1 1 1" />
      </material>
    </visual>
    <collision>
      <origin
        xyz="0 0 0"
        rpy="0 0 0" />
      <geometry>
        <mesh
          filename="./meshes/palm.STL" />
      </geometry>
    </collision>
  </link>

  <!-- Helper link to visualize palm +Z direction -->
  <!-- Offset along palm +Z by 5 cm; adjust if needed -->
  <!-- <joint name="palm_dir_joint" type="fixed">
    
    <origin xyz="-0.2 0.0 0.0" rpy="0 0 0" />
    <parent link="palm" />
    <child link="palm_dir" />
  </joint> -->

  <!-- offset along finger direction
  <joint name="palm_dir_joint" type="fixed">
    
    <origin xyz="0.0 -1.0 0.0" rpy="0 0 0" />
    <parent link="palm" />
    <child link="palm_dir" />
  </joint> -->

  <!-- <link name="palm_dir">
    <inertial>
      <origin xyz="0 0 0" rpy="0 0 0" />
      <mass value="0.0001" />
      <inertia ixx="1e-8" ixy="0" ixz="0" iyy="1e-8" iyz="0" izz="1e-8" />
    </inertial>
    <visual>
      <origin xyz="0 0 0" rpy="0 0 0" />
      <geometry>
        <box size="0.02 0.02 0.02" />
      </geometry>
      <material name="PalmDirMat">
        <color rgba="0 0 1 1" />
      </material>
    </visual>
    <collision>
      <origin xyz="0 0 0" rpy="0 0 0" />
      <geometry>
        <box size="0.02 0.02 0.02" />
      </geometry>
    </collision>
  </link> -->

  <!-- index finger -->
  <joint
    name="index_joint_0"
    type="revolute">
    <origin
      xyz="0.00028533 -0.1366 -0.027269"
      rpy="-0.034907 0 3.1416" />
  <parent link="palm" />
  <child link="index_link_0" />
    <axis xyz="0 0 -1" />
    <limit
      lower="0"
      upper="1.1"
      effort="50"
      velocity="1" />
  </joint>

  <link
    name="index_link_0">
    <inertial>
      <origin
        xyz="0.0031774 0.017383 0.00090008"
        rpy="0 0 0" />
      <mass
        value="0.05" />
      <inertia
        ixx="6.6232E-07"
        ixy="1.5775E-08"
        ixz="1.8782E-12"
        iyy="2.1146E-07"
        iyz="5.067E-12"
        izz="6.9398E-07" />
    </inertial>
    <visual>
      <origin
        xyz="0 0 0"
        rpy="0 0 0" />
      <geometry>
        <mesh
          filename="./meshes/index_link_0.STL" />
      </geometry>
      <material
        name="">
        <color
          rgba="1 1 1 1" />
      </material>
    </visual>
    <collision>
      <origin
        xyz="0 0 0"
        rpy="0 0 0" />
      <geometry>
        <mesh
          filename="./meshes/index_link_0.STL" />
      </geometry>
    </collision>
  </link>

  <joint
    name="index_joint_1"
    type="revolute">
    <origin
      xyz="0.0070171 0.037468 -0.00215"
      rpy="0 0 0" />
  <parent
      link="index_link_0" />
  <child
      link="index_link_1" />
    <axis
      xyz="0 0 -1" />
    <limit
      lower="0"
      upper="1.7"
      effort="50"
      velocity="1" />
    <mimic joint="index_joint_0" multiplier="1.54545" offset="0" />
  </joint>

  <link
    name="index_link_1">
    <inertial>
      <origin
        xyz="-0.0019697 0.019589 0.00305"
        rpy="0 0 0" />
      <mass
        value="0.025" />
      <inertia
        ixx="7.6111E-07"
        ixy="-8.7637E-08"
        ixz="-4.2766E-13"
        iyy="9.6076E-08"
        iyz="-1.2085E-12"
        izz="7.8179E-07" />
    </inertial>
    <visual>
      <origin
        xyz="0 0 0"
        rpy="0 0 0" />
      <geometry>
        <mesh
          filename="./meshes/index_link_1.STL" />
      </geometry>
      <material
        name="">
        <color
          rgba="1 1 1 1" />
      </material>
    </visual>
    <collision>
      <origin
        xyz="0 0 0"
        rpy="0 0 0" />
      <geometry>
        <mesh
          filename="./meshes/index_link_1.STL" />
      </geometry>
    </collision>
  </link>

  <joint name="index_tip_fixed" type="fixed">
    <origin xyz="0.005 0.035 0.002" rpy="0 0 0" />
    <parent link="index_link_1" />
    <child link="index_tip" />
  </joint>

  <link name="index_tip">
    <inertial>
      <origin xyz="0 0 0" rpy="0 0 0" />
      <mass value="1e-6" />
      <inertia ixx="1e-9" ixy="0" ixz="0" iyy="1e-9" iyz="0" izz="1e-9" />
    </inertial>
  </link>

<!-- middle finger -->

  <joint
    name="middle_joint_0"
    type="revolute">
    <origin
      xyz="0.00028533 -0.1371 -0.00795"
      rpy="0 0 3.1416" />
    <parent link="palm" />
    <child link="middle_link_0" />
    <axis xyz="0 0 -1" />
    <limit
      lower="0"
      upper="1.1"
      effort="50"
      velocity="1" />
  </joint>

  <link
    name="middle_link_0">
    <inertial>
      <origin
        xyz="0.0030737 0.017402 0.00090013"
        rpy="0 0 0" />
      <mass
        value="0.05" />
      <inertia
        ixx="6.6211E-07"
        ixy="1.8461E-08"
        ixz="1.798E-12"
        iyy="2.1167E-07"
        iyz="6.6568E-12"
        izz="6.9397E-07" />
    </inertial>
    <visual>
      <origin
        xyz="0 0 0"
        rpy="0 0 0" />
      <geometry>
        <mesh
          filename="./meshes/middle_link_0.STL" />
      </geometry>
      <material
        name="">
        <color
          rgba="1 1 1 1" />
      </material>
    </visual>
    <collision>
      <origin
        xyz="0 0 0"
        rpy="0 0 0" />
      <geometry>
        <mesh
          filename="./meshes/middle_link_0.STL" />
      </geometry>
    </collision>
  </link>

  <joint
    name="middle_joint_1"
    type="revolute">
    <origin
      xyz="0.0067937 0.037509 -0.00215"
      rpy="0 0 0" />
    <parent
      link="middle_link_0" />
    <child
      link="middle_link_1" />
    <axis
      xyz="0 0 -1" />
    <limit
      lower="0"
      upper="1.7"
      effort="50"
      velocity="1" />
    <mimic joint="middle_joint_0" multiplier="1.54545" offset="0" />
  </joint>

  <link
    name="middle_link_1">
    <inertial>
      <origin
        xyz="-0.001921 0.020796 0.00305"
        rpy="0 0 0" />
      <mass
        value="0.025" />
      <inertia
        ixx="9.5822E-07"
        ixy="-1.1425E-07"
        ixz="-2.4866E-12"
        iyy="1.0646E-07"
        iyz="-5.9101E-12"
        izz="9.8384E-07" />
    </inertial>
    <visual>
      <origin
        xyz="0 0 0"
        rpy="0 0 0" />
      <geometry>
        <mesh
          filename="./meshes/middle_link_1.STL" />
      </geometry>
      <material
        name="">
        <color
          rgba="1 1 1 1" />
      </material>
    </visual>
    <collision>
      <origin
        xyz="0 0 0"
        rpy="0 0 0" />
      <geometry>
        <mesh
          filename="./meshes/middle_link_1.STL" />
      </geometry>
    </collision>
  </link>

  <joint name="middle_tip_fixed" type="fixed">
    <origin xyz="0.005 0.035 0.002" rpy="0 0 0" />
    <parent link="middle_link_1" />
    <child link="middle_tip" />
  </joint>

  <link name="middle_tip">
    <inertial>
      <origin xyz="0 0 0" rpy="0 0 0" />
      <mass value="1e-6" />
      <inertia ixx="1e-9" ixy="0" ixz="0" iyy="1e-9" iyz="0" izz="1e-9" />
    </inertial>
  </link>
  
 <!-- ring finger -->
  <joint
    name="ring_joint_0"
    type="revolute">
    <origin
      xyz="0.00028533 -0.13681 0.0112844"
      rpy="0.05236 0 -3.1416" />
    <parent link="palm" />
    <child link="ring_link_0" />
    <axis xyz="0 0 -1" />
    <limit
      lower="0"
      upper="1.1"
      effort="50"
      velocity="1" />
  </joint>

  <link
    name="ring_link_0">
    <inertial>
      <origin
        xyz="0.0030737 0.017402 0.00090015"
        rpy="0 0 0" />
      <mass
        value="0.05" />
      <inertia
        ixx="6.6211E-07"
        ixy="1.8461E-08"
        ixz="1.5739E-12"
        iyy="2.1167E-07"
        iyz="6.6326E-12"
        izz="6.9397E-07" />
    </inertial>
    <visual>
      <origin
        xyz="0 0 0"
        rpy="0 0 0" />
      <geometry>
        <mesh
          filename="./meshes/ring_link_0.STL" />
      </geometry>
      <material
        name="">
        <color
          rgba="1 1 1 1" />
      </material>
    </visual>
    <collision>
      <origin
        xyz="0 0 0"
        rpy="0 0 0" />
      <geometry>
        <mesh
          filename="./meshes/ring_link_0.STL" />
      </geometry>
    </collision>
  </link>

  <joint
    name="ring_joint_1"
    type="revolute">
    <origin
      xyz="0.0067937 0.037509 -0.00215"
      rpy="0 0 0" />
    <parent
      link="ring_link_0" />
    <child
      link="ring_link_1" />
    <axis
      xyz="0 0 -1" />
    <limit
      lower="0"
      upper="1.7"
      effort="50"
      velocity="1" />
    <mimic joint="ring_joint_0" multiplier="1.54545" offset="0" />
  </joint>

  <link
    name="ring_link_1">
    <inertial>
      <origin
        xyz="-0.0021753 0.019567 0.00305"
        rpy="0 0 0" />
      <mass
        value="0.025" />
      <inertia
        ixx="7.6286E-07"
        ixy="-8.0635E-08"
        ixz="-6.1735E-13"
        iyy="9.431E-08"
        iyz="-5.5495E-13"
        izz="7.8177E-07" />
    </inertial>
    <visual>
      <origin
        xyz="0 0 0"
        rpy="0 0 0" />
      <geometry>
        <mesh
          filename="./meshes/ring_link_1.STL" />
      </geometry>
      <material
        name="">
        <color
          rgba="1 1 1 1" />
      </material>
    </visual>
    <collision>
      <origin
        xyz="0 0 0"
        rpy="0 0 0" />
      <geometry>
        <mesh
          filename="./meshes/ring_link_1.STL" />
      </geometry>
    </collision>
  </link>

  <joint name="ring_tip_fixed" type="fixed">
    <origin xyz="0.005 0.035 0.002" rpy="0 0 0" />
    <parent link="ring_link_1" />
    <child link="ring_tip" />
  </joint>

  <link name="ring_tip">
    <inertial>
      <origin xyz="0 0 0" rpy="0 0 0" />
      <mass value="1e-6" />
      <inertia ixx="1e-9" ixy="0" ixz="0" iyy="1e-9" iyz="0" izz="1e-9" />
    </inertial>
  </link>

<!-- little finger -->
  <joint name="little_joint_0" type="revolute">
  <!-- The joint origin defines the transform from parent link to joint frame -->
  <origin xyz="0.00028533 -0.13551 0.030477" rpy="0.10472 0 -3.1416"/>

  <!-- Parent and child links -->
  <parent link="palm"/>
  <child link="little_link_0"/>

    <!-- Axis of rotation (in joint frame) -->
    <axis xyz="0 0 -1"/>

    <!-- Joint limits -->
    <limit lower="0" upper="1.1" effort="100.0" velocity="1.0"/>
  </joint>

  <link
    name="little_link_0">
    <inertial>
      <origin
        xyz="0.0030737 0.017402 0.00090014"
        rpy="0 0 0" />
      <mass
        value="0.05" />
      <inertia
        ixx="6.6211E-07"
        ixy="1.8461E-08"
        ixz="1.6126E-12"
        iyy="2.1167E-07"
        iyz="6.6785E-12"
        izz="6.9398E-07" />
    </inertial>
    <visual>
      <origin
        xyz="0 0 0"
        rpy="0 0 0" />
      <geometry>
        <mesh
          filename="./meshes/little_link_0.STL" />
      </geometry>
      <material
        name="">
        <color
          rgba="1 1 1 1" />
      </material>
    </visual>
    <collision>
      <origin
        xyz="0 0 0"
        rpy="0 0 0" />
      <geometry>
        <mesh
          filename="./meshes/little_link_0.STL" />
      </geometry>
    </collision>
  </link>

  <joint
    name="little_joint_1"
    type="revolute">
    <origin
      xyz="0.0067937 0.037509 -0.00215"
      rpy="0 0 0" />
    <parent
      link="little_link_0" />
    <child
      link="little_link_1" />
    <axis
      xyz="0 0 -1" />
    <limit
      lower="0"
      upper="1.7"
      effort="50"
      velocity="1" />
    <mimic joint="little_joint_0" multiplier="1.54545" offset="0" />
  </joint>

  <link
    name="little_link_1">
    <inertial>
      <origin
        xyz="-0.0024748 0.016203 0.0030531"
        rpy="0 0 0" />
      <mass
        value="0.025" />
      <inertia
        ixx="4.3913E-07"
        ixy="-4.1418E-08"
        ixz="3.7169E-11"
        iyy="7.0247E-08"
        iyz="-5.8612E-11"
        izz="4.4867E-07" />
    </inertial>
    <visual>
      <origin
        xyz="0 0 0"
        rpy="0 0 0" />
      <geometry>
        <mesh
          filename="./meshes/little_link_1.STL" />
      </geometry>
      <material
        name="">
        <color
          rgba="1 1 1 1" />
      </material>
    </visual>
    <collision>
      <origin
        xyz="0 0 0"
        rpy="0 0 0" />
      <geometry>
        <mesh
          filename="./meshes/little_link_1.STL" />
      </geometry>
    </collision>
  </link>

  <joint name="little_tip_fixed" type="fixed">
    <origin xyz="0.005 0.035 0.003" rpy="0 0 0" />
    <parent link="little_link_1" />
    <child link="little_tip" />
  </joint>

  <link name="little_tip">
    <inertial>
      <origin xyz="0 0 0" rpy="0 0 0" />
      <mass value="1e-6" />
      <inertia ixx="1e-9" ixy="0" ixz="0" iyy="1e-9" iyz="0" izz="1e-9" />
    </inertial>
  </link>
 
  <!-- thumb -->
  
  
<joint name="thumb_joint_0" type="revolute">
  <!-- Transform from parent (base_link) to this joint frame -->
  <origin xyz="-0.02296 -0.05885 -0.02045" rpy="1.5708 -1.5708 0"/>

  <!-- Parent and child links -->
  <parent link="palm"/>
  <child link="thumb_link_0"/>

  <!-- Axis of rotation -->
  <axis xyz="0 0 -1"/>

  <!-- Joint limits -->
  <limit lower="0.3" upper="1.2" effort="50.0" velocity="1.0"/>
</joint>

  <link
    name="thumb_link_0">
    <inertial>
      <origin
        xyz="-0.0078715 0.0065154 0.00388"
        rpy="0 0 0" />
      <mass
        value="0.05" />
      <inertia
        ixx="5.816E-08"
        ixy="1.4539E-08"
        ixz="4.491E-09"
        iyy="7.9161E-08"
        iyz="-1.8727E-09"
        izz="6.7433E-08" />
    </inertial>
    <visual>
      <origin
        xyz="0 0 0"
        rpy="0 0 0" />
      <geometry>
        <mesh
          filename="./meshes/thumb_link_0.STL" />
      </geometry>
      <material
        name="">
        <color
          rgba="1 1 1 1" />
      </material>
    </visual>
    <collision>
      <origin
        xyz="0 0 0"
        rpy="0 0 0" />
      <geometry>
        <mesh
          filename="./meshes/thumb_link_0.STL" />
      </geometry>
    </collision>
  </link>

  <joint
    name="thumb_joint_1"
    type="revolute">
    <origin
      xyz="-0.012782 0.013348 0.0022"
      rpy="1.5708 0 2.8587" />
    <parent
      link="thumb_link_0" />
    <child
      link="thumb_link_1" />
    <axis
      xyz="0 0 1" />
    <limit
      lower="0"
      upper="0.5"
      effort="50"
      velocity="1" />
  </joint>

  <link
    name="thumb_link_1">
    <inertial>
      <origin
        xyz="0.021932 0.012785 -0.0047886"
        rpy="0 0 0" />
      <mass
        value="0.03" />
      <inertia
        ixx="1.5687E-06"
        ixy="-7.8296E-07"
        ixz="8.9144E-10"
        iyy="1.7353E-06"
        iyz="-1.0191E-09"
        izz="2.786E-06" />
    </inertial>
    <visual>
      <origin
        xyz="0 0 0"
        rpy="0 0 0" />
      <geometry>
        <mesh
          filename="./meshes/thumb_link_1.STL" />
      </geometry>
      <material
        name="">
        <color
          rgba="1 1 1 1" />
      </material>
    </visual>
    <collision>
      <origin
        xyz="0 0 0"
        rpy="0 0 0" />
      <geometry>
        <mesh
          filename="./meshes/thumb_link_1.STL" />
      </geometry>
    </collision>
  </link>

<joint name="thumb_joint_2" type="revolute">
  <!-- Transform from parent (Link44) to this joint frame -->
  <origin xyz="0.05507 0.025553 -0.00355" rpy="-3.1416 0 -3.1416"/>

  <!-- Parent and child links -->
  <parent link="thumb_link_1"/>
  <child link="thumb_link_2"/>

  <!-- Axis of rotation (in joint frame) -->
  <axis xyz="0 0 -1"/>

  <!-- Joint limits -->
  <limit lower="0" upper="0.5" effort="50.0" velocity="1.0"/>
  <mimic joint="thumb_joint_1" multiplier="1.0" offset="0" />
</joint>

  <link
    name="thumb_link_2">
    <inertial>
      <origin
        xyz="-0.0060688 0.011295 0.00099972"
        rpy="0 0 0" />
      <mass
        value="0.025" />
      <inertia
        ixx="3.6981E-07"
        ixy="9.8581E-08"
        ixz="-4.7472E-12"
        iyy="3.2394E-07"
        iyz="-1.0931E-12"
        izz="4.6531E-07" />
    </inertial>
    <visual>
      <origin
        xyz="0 0 0"
        rpy="0 0 0" />
      <geometry>
        <mesh
          filename="./meshes/thumb_link_2.STL" />
      </geometry>
      <material
        name="">
        <color
          rgba="1 1 1 1" />
      </material>
    </visual>
    <collision>
      <origin
        xyz="0 0 0"
        rpy="0 0 0" />
      <geometry>
        <mesh
          filename="./meshes/thumb_link_2.STL" />
      </geometry>
    </collision>
  </link>

  <joint
    name="thumb_joint_3"
    type="revolute">
    <origin
      xyz="-0.016763 0.023079 -0.00255"
      rpy="0 0 0" />
    <parent
      link="thumb_link_2" />
    <child
      link="thumb_link_3" />
    <axis
      xyz="0 0 -1" />
    <limit
      lower="0"
      upper="0.4"
      effort="50"
      velocity="1" />
    <mimic joint="thumb_joint_2" multiplier="0.8" offset="0" />
  </joint>

  <link
    name="thumb_link_3">
    <inertial>
      <origin
        xyz="-0.0092888 0.0049529 0.0035533"
        rpy="0 0 0" />
      <mass
        value="0.02" />
      <inertia
        ixx="1.3632E-07"
        ixy="5.6788E-08"
        ixz="-9.2801E-11"
        iyy="1.4052E-07"
        iyz="1.2283E-10"
        izz="2.0026E-07" />
    </inertial>
    <visual>
      <origin
        xyz="0 0 0"
        rpy="0 0 0" />
      <geometry>
        <mesh
          filename="./meshes/thumb_link_3.STL" />
      </geometry>
      <material
        name="">
        <color
          rgba="1 1 1 1" />
      </material>
    </visual>
    <collision>
      <origin
        xyz="0 0 0"
        rpy="0 0 0" />
      <geometry>
        <mesh
          filename="./meshes/thumb_link_3.STL" />
      </geometry>
    </collision>
  </link>

  <joint name="thumb_tip_fixed" type="fixed">
    <origin xyz="-0.01 0.015 0.005" rpy="0 0 0" />
    <parent link="thumb_link_3" />
    <child link="thumb_tip" />
  </joint>

  <link name="thumb_tip">
    <inertial>
      <origin xyz="0 0 0" rpy="0 0 0" />
      <mass value="1e-6" />
      <inertia ixx="1e-9" ixy="0" ixz="0" iyy="1e-9" iyz="0" izz="1e-9" />
    </inertial>
  </link>
</robot>
